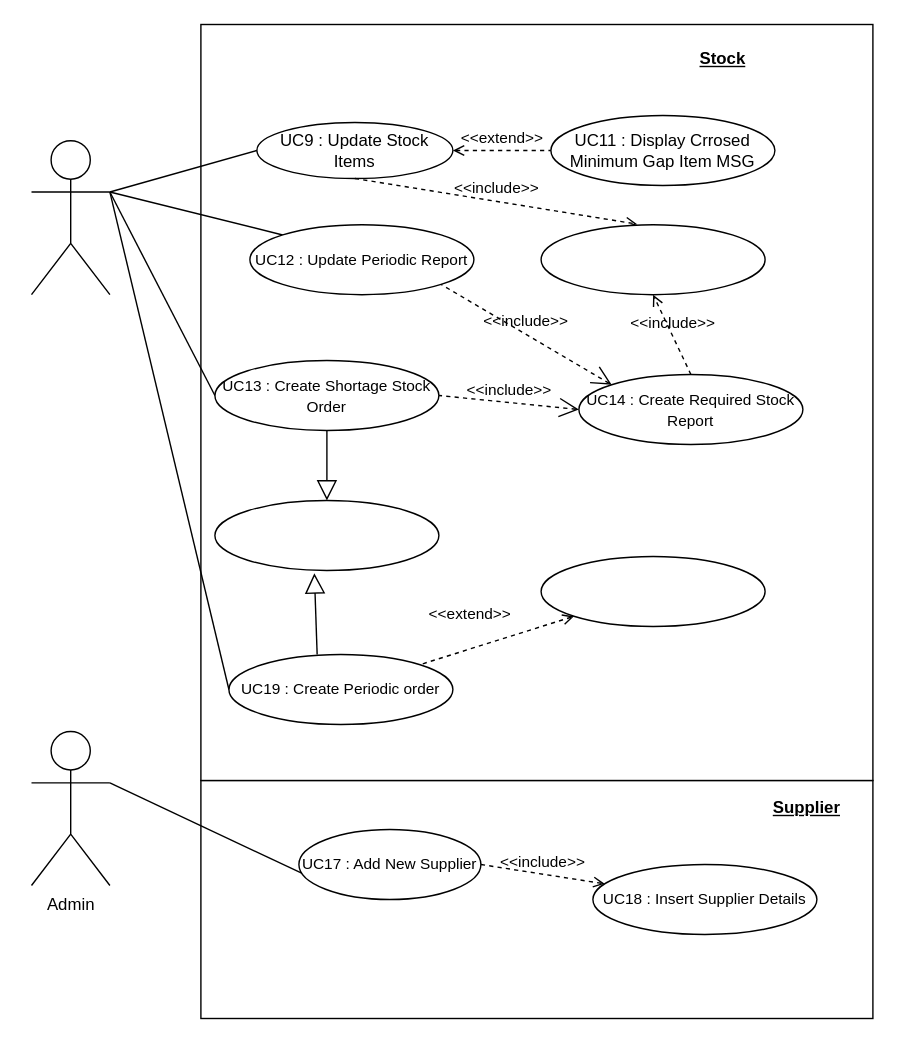
This 897x1043 diagram has some shape labels left out. The shapes that lost their labels are listed below. From the top down, each one's box as (x1, y1, x2, y2) in pixels, then its label:
(30, 139, 110, 295): Stockkeeper
(540, 223, 765, 295): UC10 : Check Item Capacity
(214, 499, 439, 570): UC16 : Create Order
(540, 555, 765, 626): UC15 : Create Periodic Report
